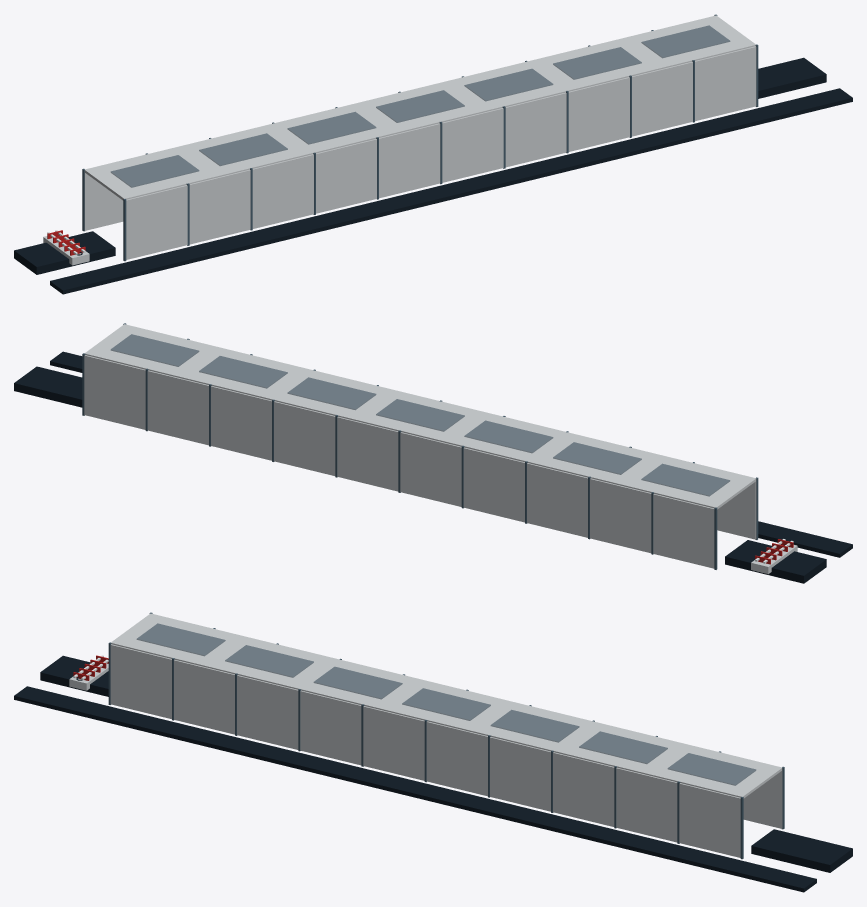
File: auto-aging-line.glb
3 views of the same model, one above another, from view 1: azimuth 30°, elevation 25°; view 2: azimuth 150°, elevation 25°; view 3: azimuth 330°, elevation 25° (orthographic).
Parts seen in each view (by area): view 1: Tunnel side wall (×2), Tunnel roof, Carrier return conveyor, Inlet conveyor, Outlet conveyor, Observation window 3, Observation window 4, Observation window 7, Observation window 1, Observation window 2, Observation window 5, Observation window 6; view 2: Tunnel side wall (×2), Tunnel roof, Inlet conveyor, Carrier return conveyor, Outlet conveyor, Observation window 2, Observation window 3, Observation window 5, Observation window 4, Observation window 1, Observation window 6, Observation window 7; view 3: Tunnel side wall (×2), Tunnel roof, Carrier return conveyor, Outlet conveyor, Observation window 5, Observation window 1, Observation window 4, Observation window 2, Observation window 3, Observation window 6, Observation window 7, Inlet conveyor.
Part boxes in pixels (left/top/right/bottom): Tunnel side wall (×2): left=84, top=46, right=756, bottom=259; Tunnel roof: left=84, top=15, right=755, bottom=200; Carrier return conveyor: left=50, top=88, right=852, bottom=294; Inlet conveyor: left=14, top=231, right=115, bottom=274; Outlet conveyor: left=758, top=57, right=826, bottom=98; Observation window 3: left=287, top=112, right=376, bottom=144; Observation window 4: left=376, top=90, right=464, bottom=122; Observation window 7: left=641, top=25, right=730, bottom=58; Observation window 1: left=111, top=155, right=199, bottom=187; Observation window 2: left=199, top=133, right=287, bottom=165; Observation window 5: left=464, top=69, right=553, bottom=101; Observation window 6: left=553, top=47, right=641, bottom=79; Tunnel side wall (×2): left=84, top=355, right=756, bottom=568; Tunnel roof: left=84, top=324, right=756, bottom=509; Inlet conveyor: left=725, top=540, right=826, bottom=583; Carrier return conveyor: left=50, top=351, right=852, bottom=557; Outlet conveyor: left=14, top=366, right=82, bottom=407; Observation window 2: left=553, top=442, right=641, bottom=474; Observation window 3: left=464, top=420, right=553, bottom=453; Observation window 5: left=287, top=377, right=376, bottom=409; Observation window 4: left=376, top=399, right=464, bottom=431; Observation window 1: left=641, top=463, right=729, bottom=496; Observation window 6: left=199, top=356, right=287, bottom=388; Observation window 7: left=111, top=334, right=199, bottom=366; Tunnel side wall (×2): left=110, top=644, right=782, bottom=857; Tunnel roof: left=111, top=613, right=782, bottom=798; Carrier return conveyor: left=14, top=686, right=816, bottom=892; Outlet conveyor: left=751, top=829, right=852, bottom=872; Observation window 5: left=490, top=710, right=579, bottom=742; Observation window 1: left=136, top=623, right=225, bottom=656; Observation window 4: left=402, top=688, right=490, bottom=720; Observation window 2: left=225, top=645, right=313, bottom=677; Observation window 3: left=313, top=667, right=402, bottom=699; Observation window 6: left=579, top=731, right=667, bottom=763; Observation window 7: left=667, top=753, right=755, bottom=785; Inlet conveyor: left=40, top=655, right=108, bottom=696.
Size of the model in its own units: 25 by 1.95 by 3.22.
